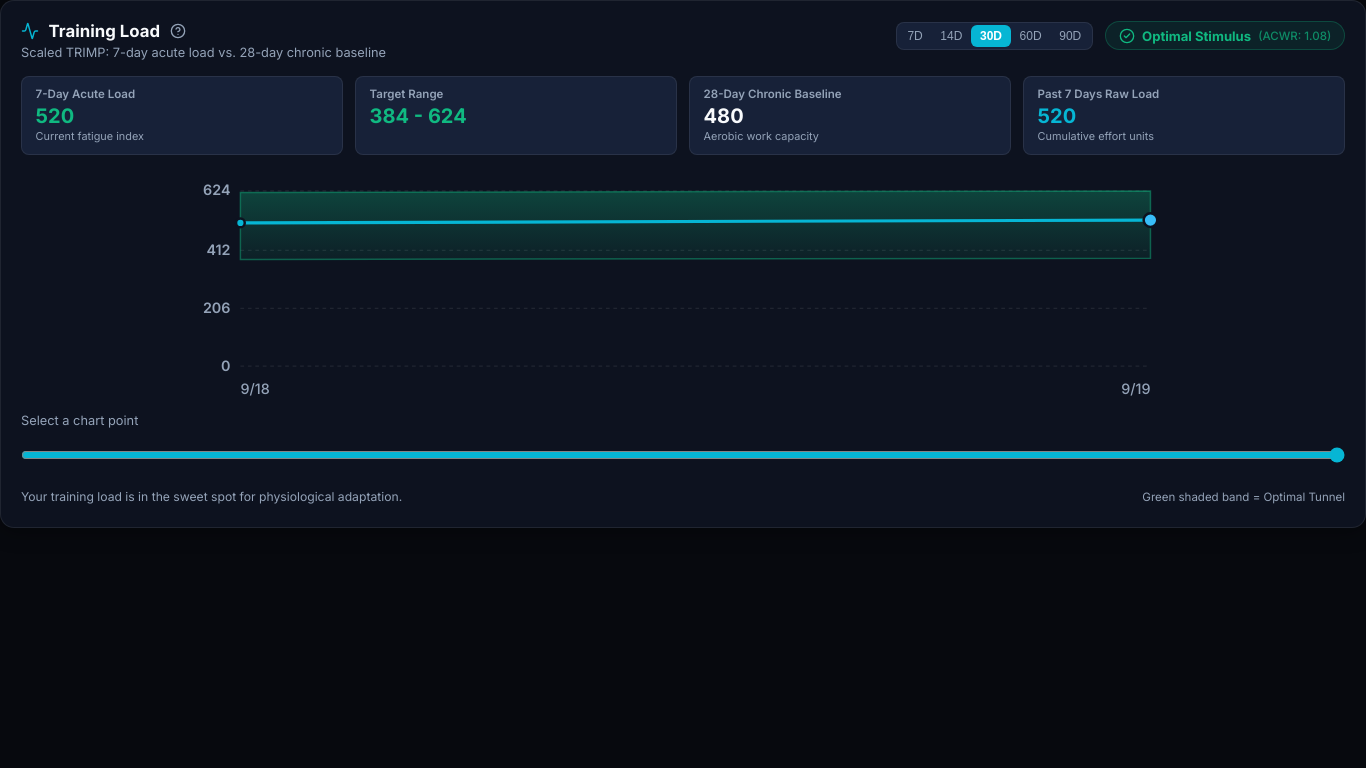
TrainingLoadCard UI Tests › opens and closes Educational Guide Modal when info (?) button is clicked
This screenshot has width=1366, height=768.
Expected: the heading "Training Load" is shown, [49,21,160,41]
Click the button titled "Training Load Guide" at (178, 31), box [170,23,186,39]
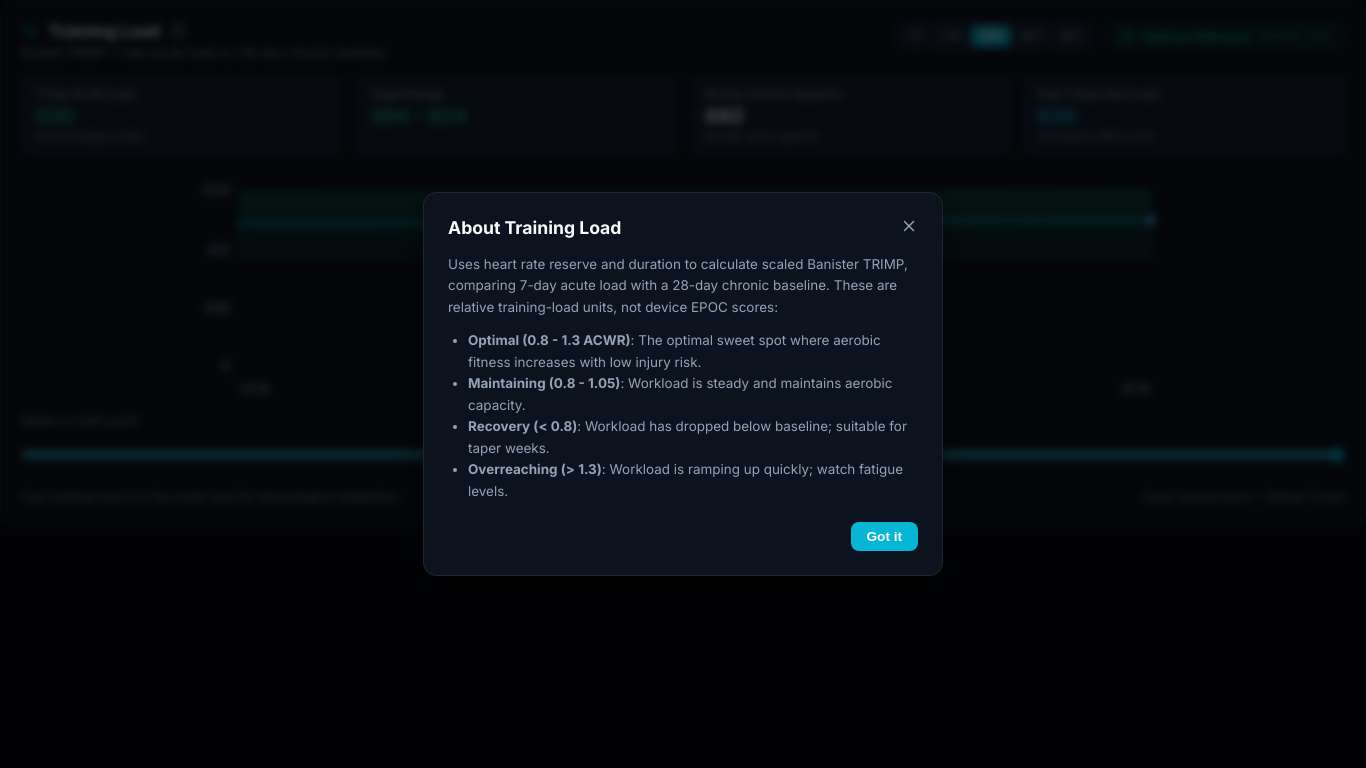
Result: the heading "About Training Load" is shown at [448,217,621,238]
Result: the text "heart rate reserve" is shown at [448,256,908,315]
Result: the text "Optimal (0.8 - 1.3 ACWR)" is shown at [468,332,631,348]
Click the button "Got it" at (884, 537), box [850,522,918,552]
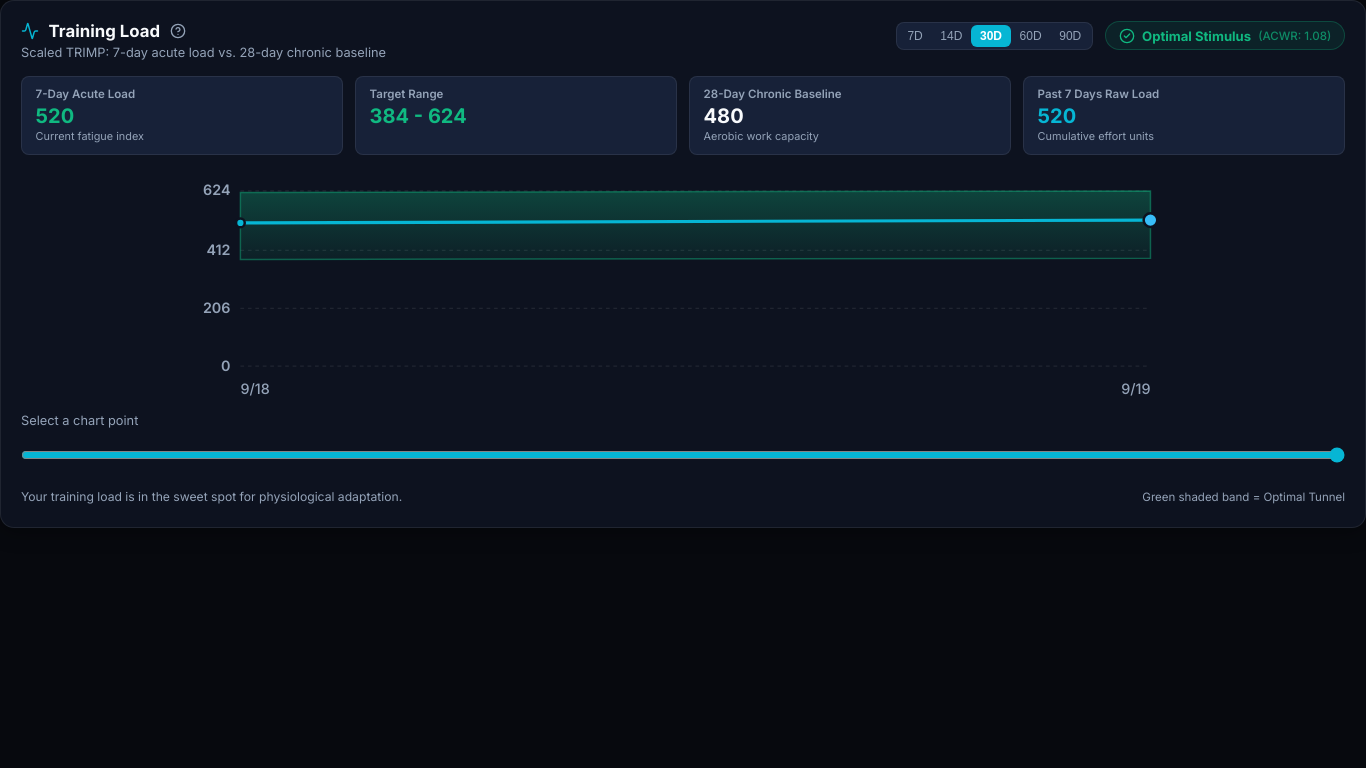
Result: the heading "About Training Load" is gone
